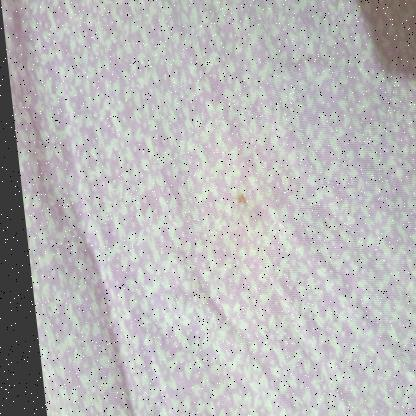spot: (227, 188, 247, 210)
